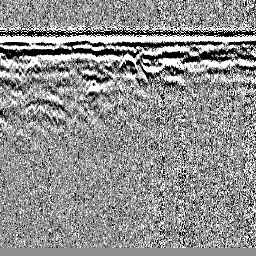cavity: (115, 53, 139, 71)
